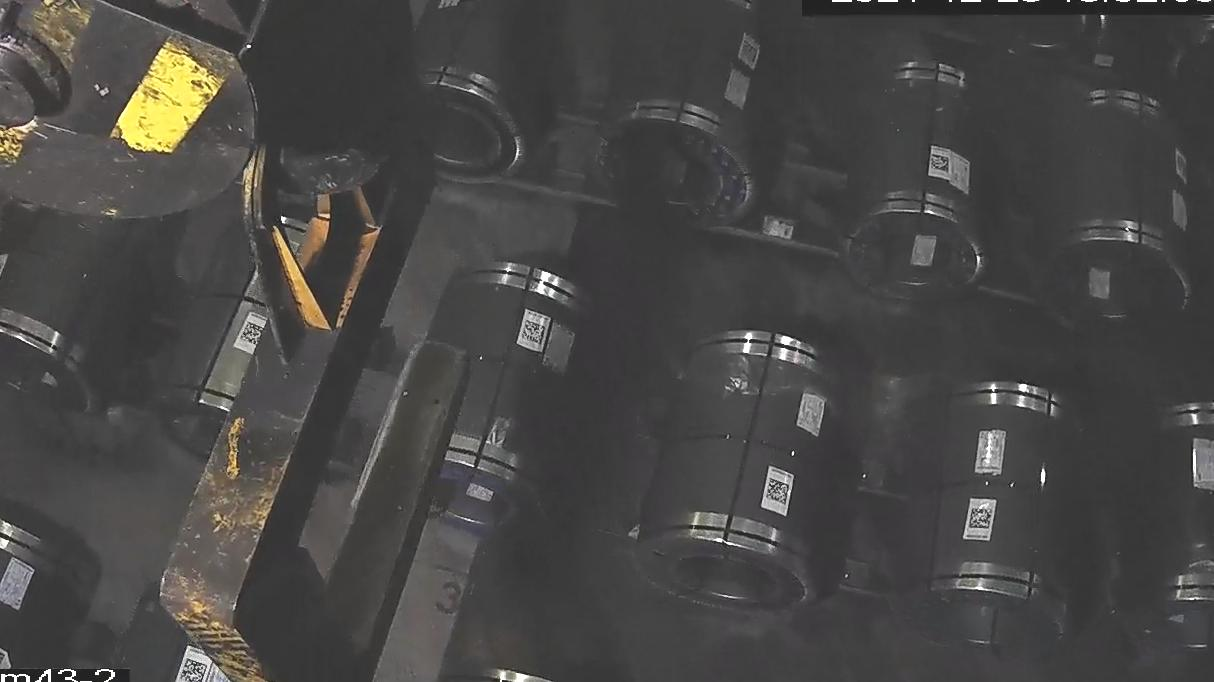data matrix: (177, 657, 210, 682), (765, 477, 792, 507), (521, 319, 548, 347), (240, 321, 267, 349), (968, 508, 996, 531), (930, 153, 952, 175), (1, 643, 9, 671), (1, 262, 7, 283)
